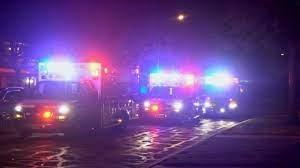AMBULANCE: (144, 65, 243, 124), (38, 60, 125, 84)
